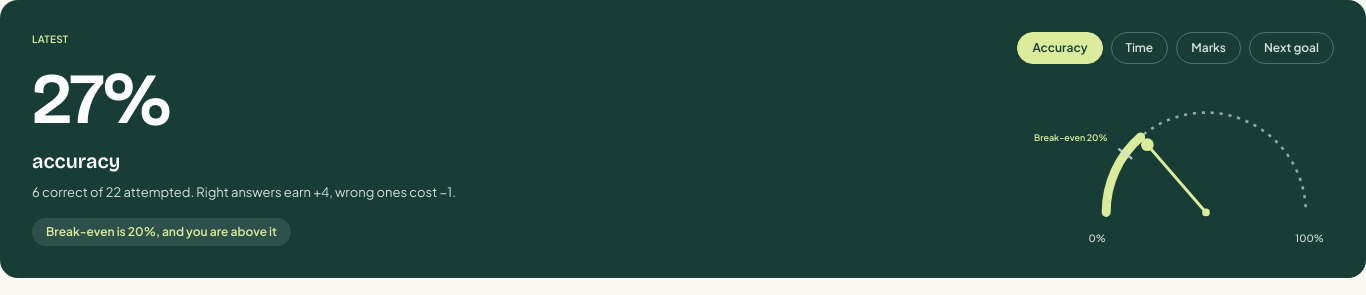
Scenario: AnalysisLatestMockInsights › starts on accuracy and switches with the chips
Expected: the text "27%" is shown, 32,56 -> 169,142
What coordinates should you click on to do the following:
click the button "Marks"
I would click on:
 (1209, 48)
Its box is 1176,32 -> 1241,64.
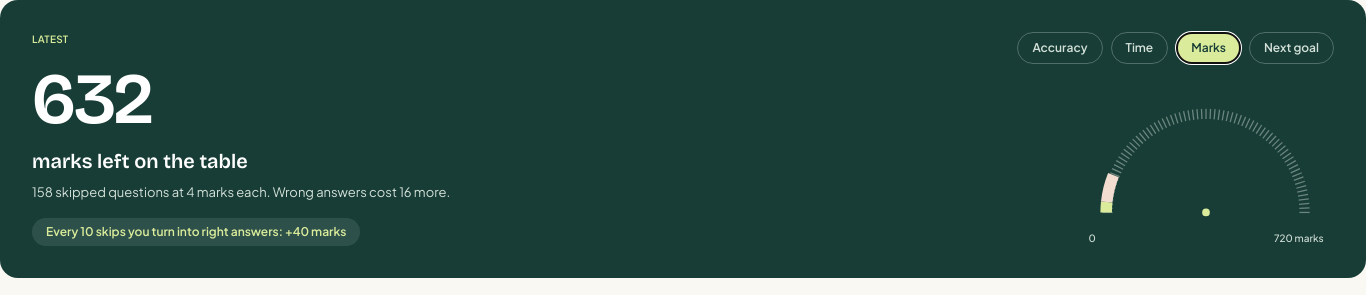
Now the text "632" is shown, box 32,56 -> 152,142
What coordinates should you click on to do the following:
click the button "Time"
I would click on:
 (1139, 48)
Its box is 1110,32 -> 1168,64.
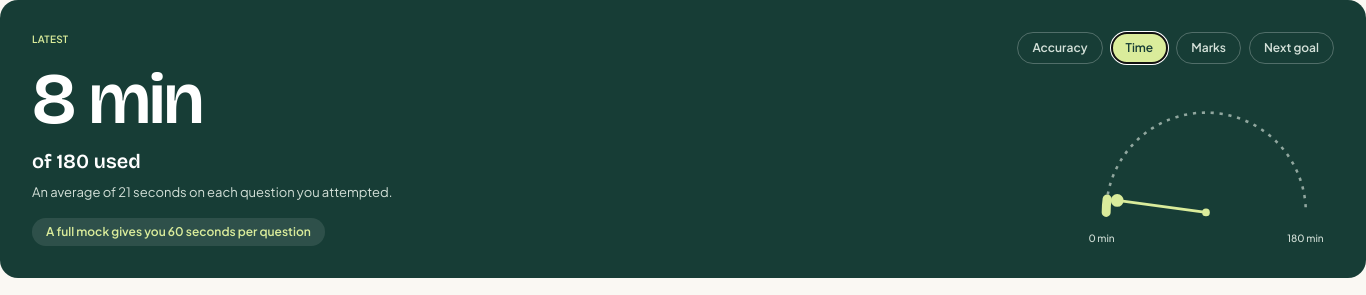
Now the text "8 min" is shown, box 32,56 -> 202,142
What coordinates should you click on to do the following:
click the button "Next goal"
I would click on:
 (1291, 48)
Its box is 1249,32 -> 1334,64.
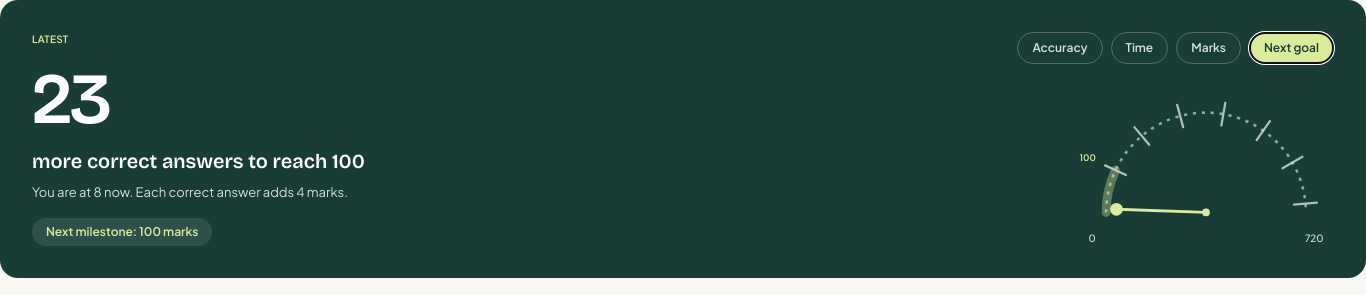
Now the text "23" is shown, box 32,56 -> 109,142
